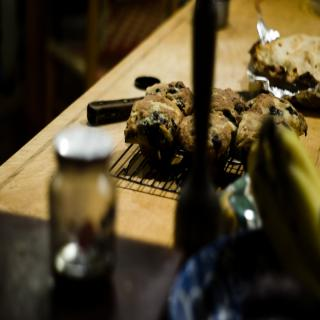Muffin: (122, 95, 184, 166), (176, 107, 238, 177), (233, 110, 299, 172), (245, 92, 308, 140), (146, 78, 195, 116), (211, 88, 249, 126)
